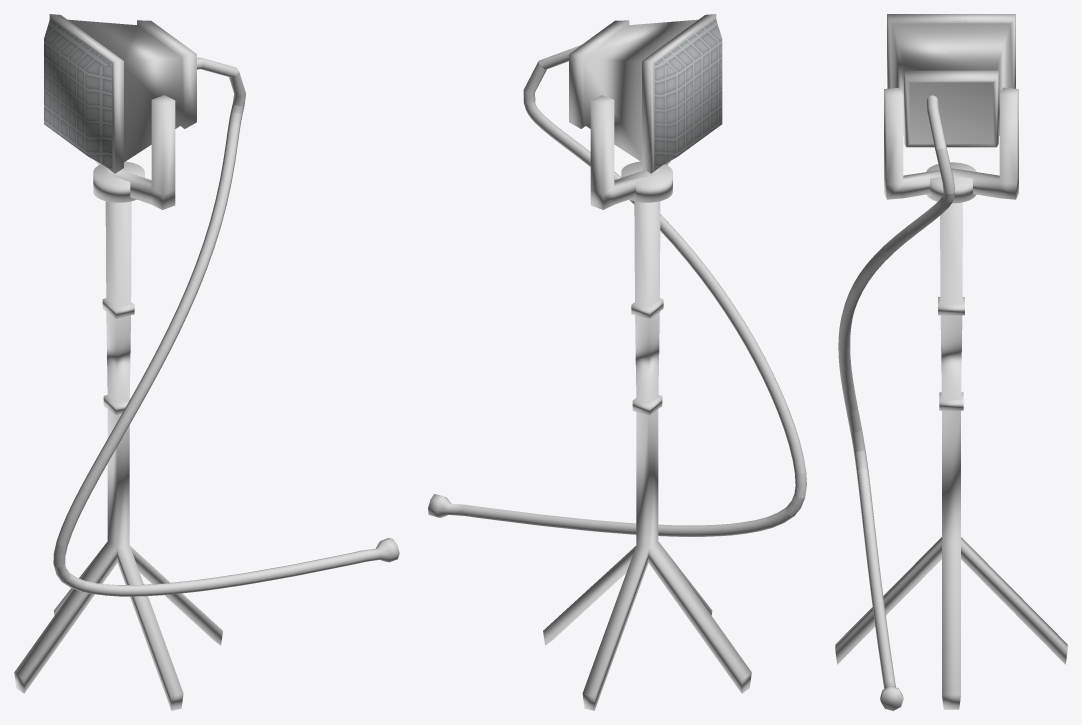
File: light.fbx
3 views of the same model, side by side, from view 1: azimuth 30°, elevation 25°; view 2: azimuth 150°, elevation 25°; view 3: azimuth 270°, elevation 25° (orthographic).
Parts seen in each view (by area): view 1: Cylinder, cable, HUB, LIGHT; view 2: Cylinder, cable, HUB, LIGHT; view 3: Cylinder, HUB, cable.
Part boxes in pixels (<box>): Cylinder: <box>14,95,222,710</box>; cable: <box>53,57,399,596</box>; HUB: <box>49,14,196,173</box>; LIGHT: <box>44,18,112,169</box>; Cylinder: <box>543,95,751,710</box>; cable: <box>428,45,806,536</box>; HUB: <box>569,14,716,173</box>; LIGHT: <box>653,18,722,169</box>; Cylinder: <box>835,87,1067,709</box>; HUB: <box>887,14,1015,147</box>; cable: <box>838,95,954,710</box>.
Size of the model in its own units: 664 by 1133 by 378.
